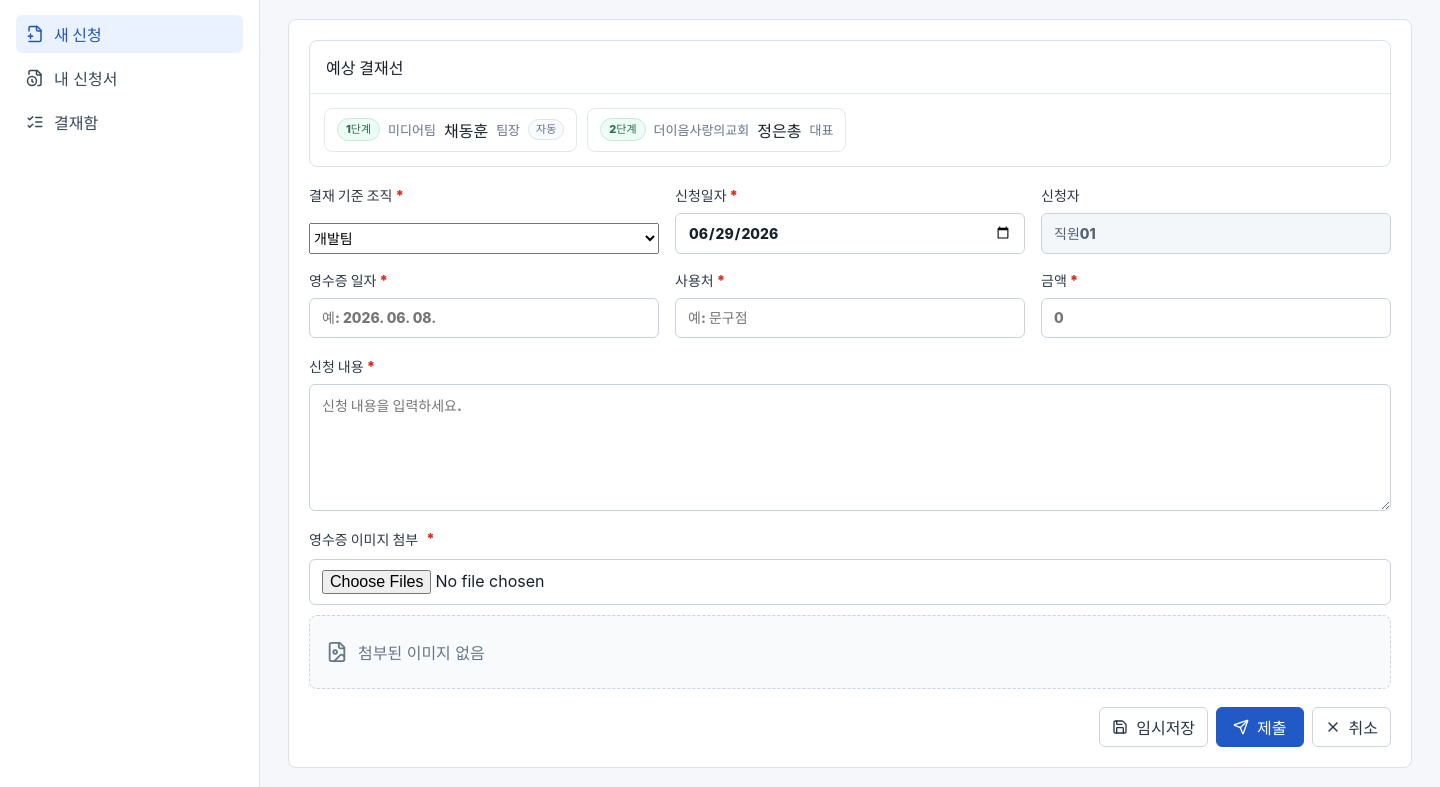
ApplicationForm › 필수 항목이 비어 있으면 제출할 수 없다
(page scrolled)
Expected: the label "신청일자 *" is shown, [675,185,1025,254]
Expected: the label "영수증 일자 *" is shown, [309,270,659,338]
Click the button "제출". click: (1260, 727)
box: [1216,707,1304,747]
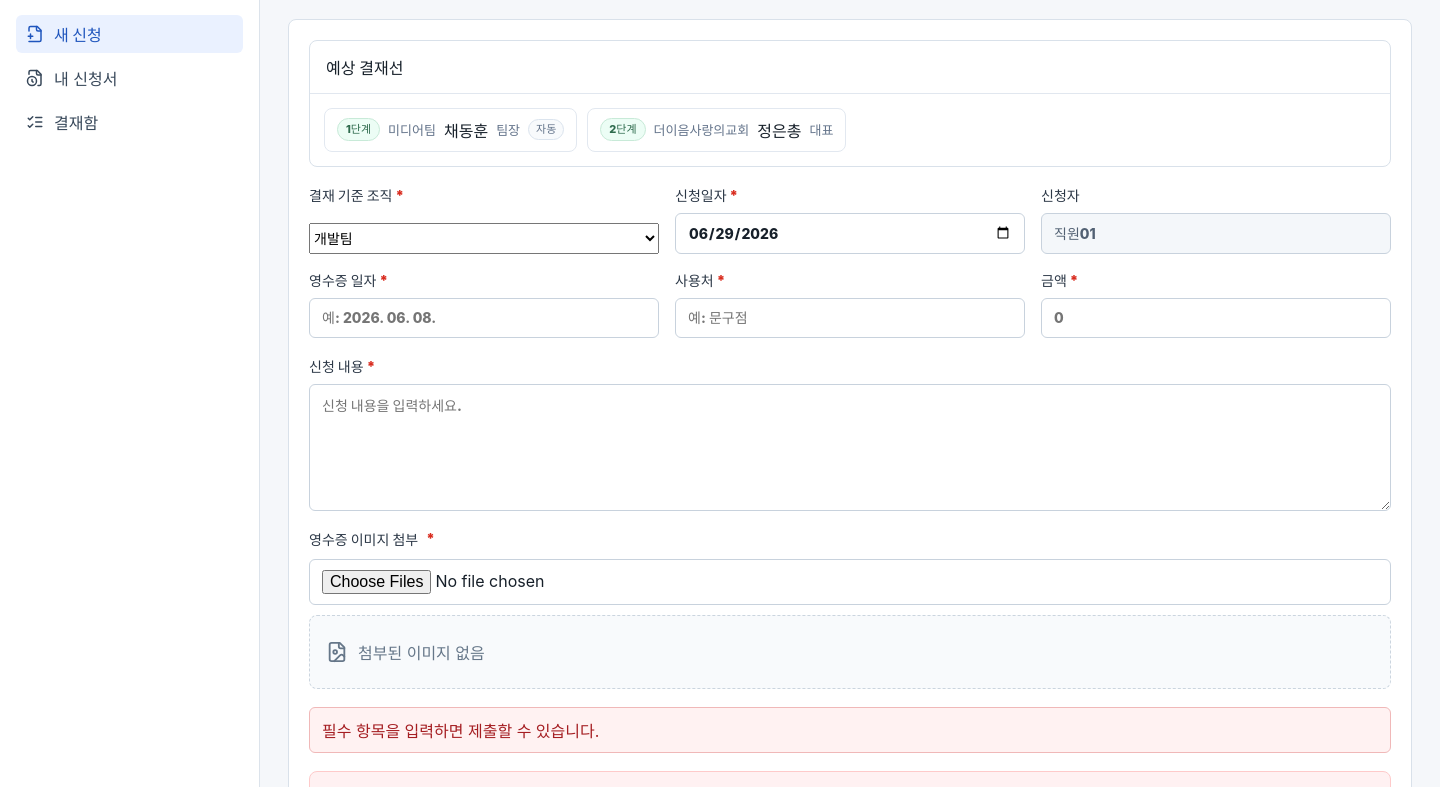
Expected: the text "필수 항목을 입력하면 제출할 수 있습니다." is shown, [309,707,1391,753]
